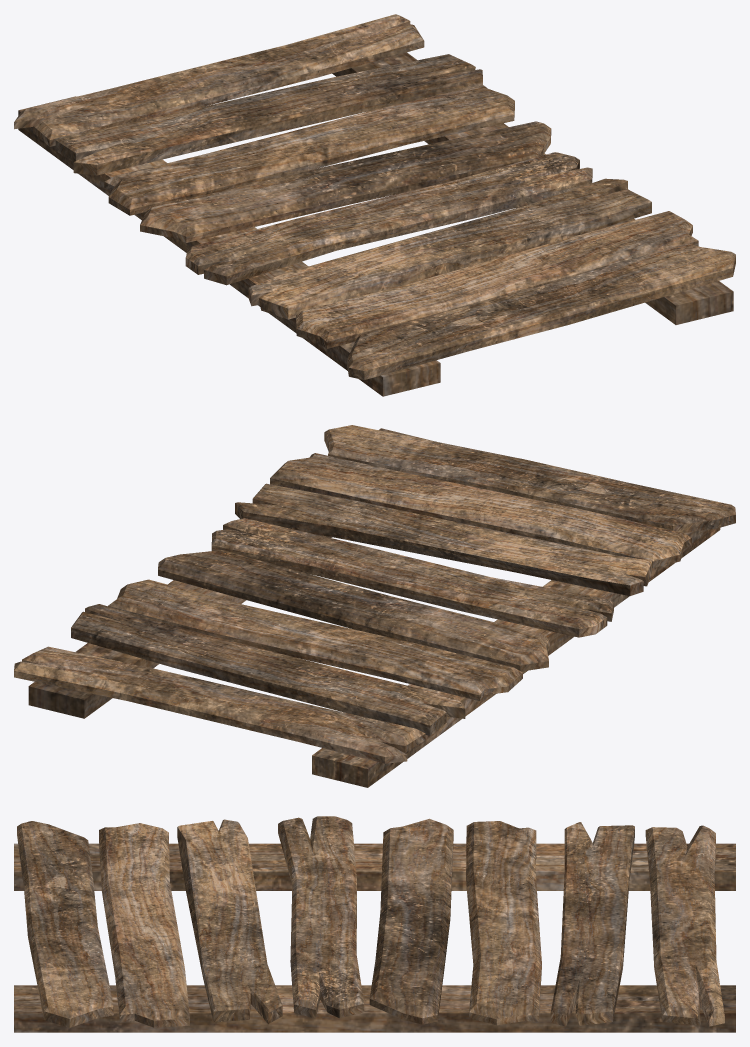
Rendered from Bridge_3.fbx.
The picture shows the model from 3 angles, top to bottom: view 1: azimuth 30°, elevation 25°; view 2: azimuth 150°, elevation 25°; view 3: azimuth 270°, elevation 25°; orthographic projection. The views are drawn at different scales.
Visible parts, largest first — view 1: Bridge_3; view 2: Bridge_3; view 3: Bridge_3.
Boxes of the visible parts, bbox=[...] form: Bridge_3: bbox=[14, 14, 735, 396]; Bridge_3: bbox=[14, 425, 735, 787]; Bridge_3: bbox=[14, 816, 735, 1032].
Bounding box in the file's own units: 3.28 × 0.2453 × 4.99.
1 material, 1 textured.
